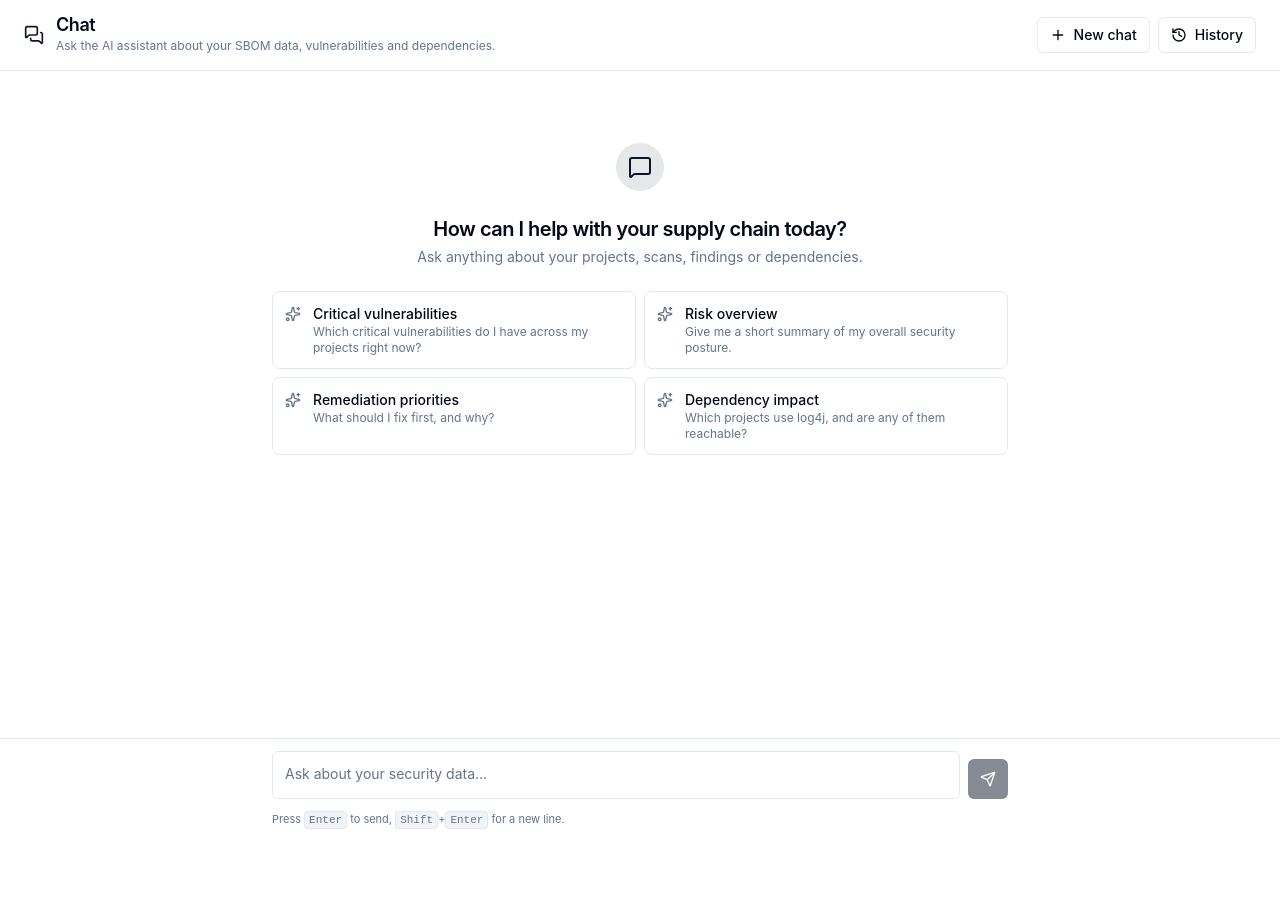
Chat turn after the stream ends › keeps a finished follow-up on screen until the refetched conversation holds it
Click the button "History" at (1207, 35), box [1158,17,1256,53]
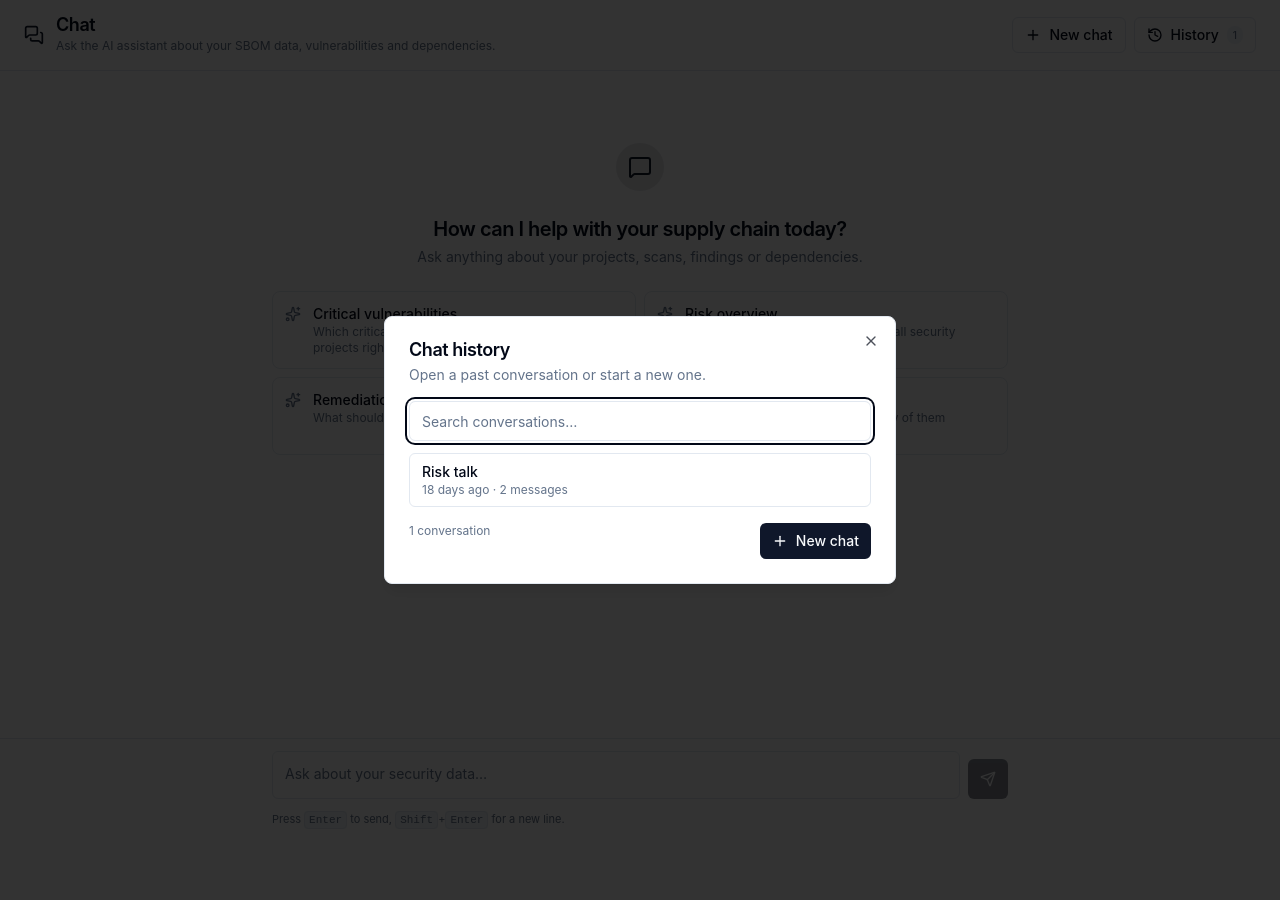
Click the text "Risk talk" at (450, 472), box [422,463,478,480]
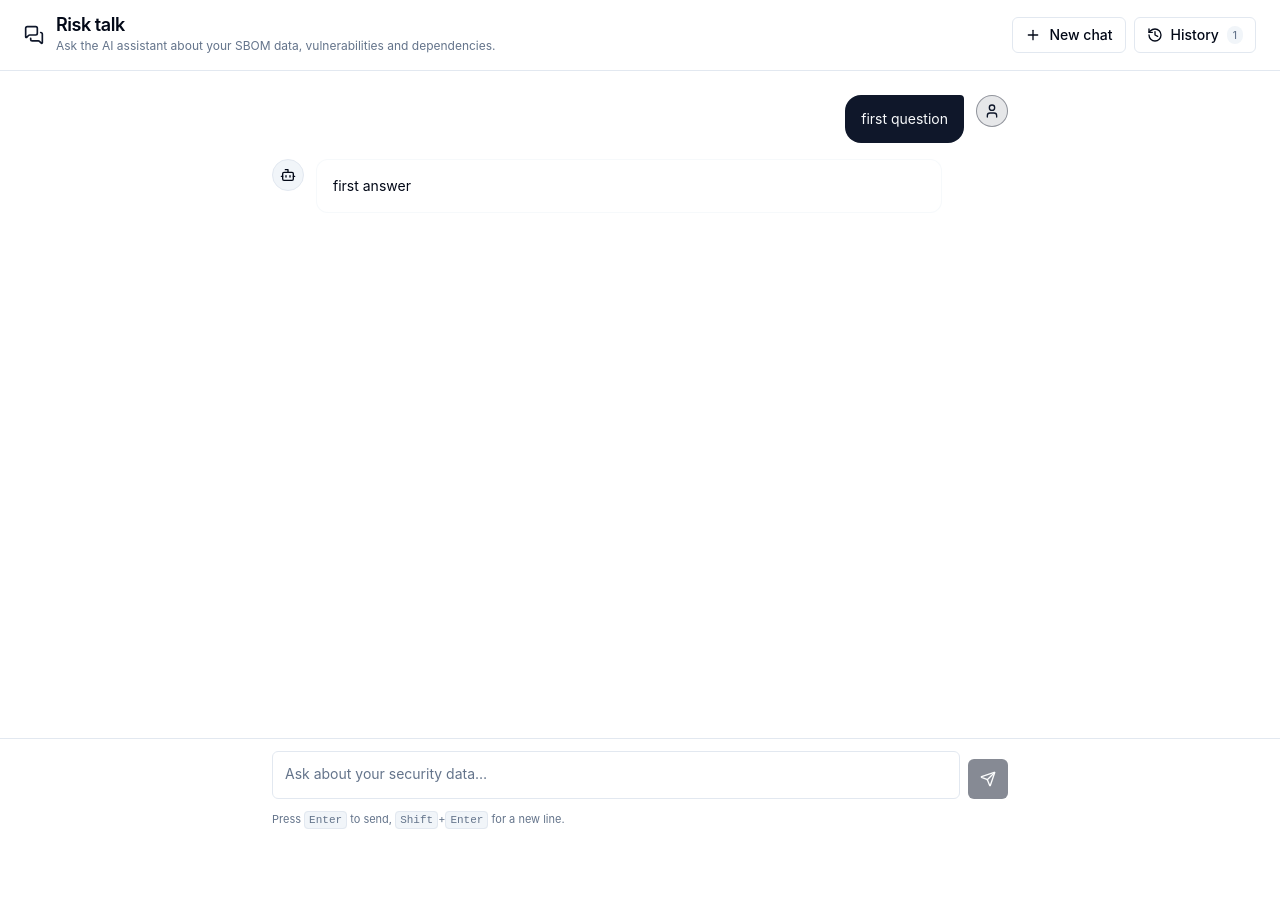
expect the text "first answer" is shown: met, box [333,177,411,194]
Type "second question" into the text box with placeholder "Ask about your security data…" at (616, 774), box [272,750,960,798]
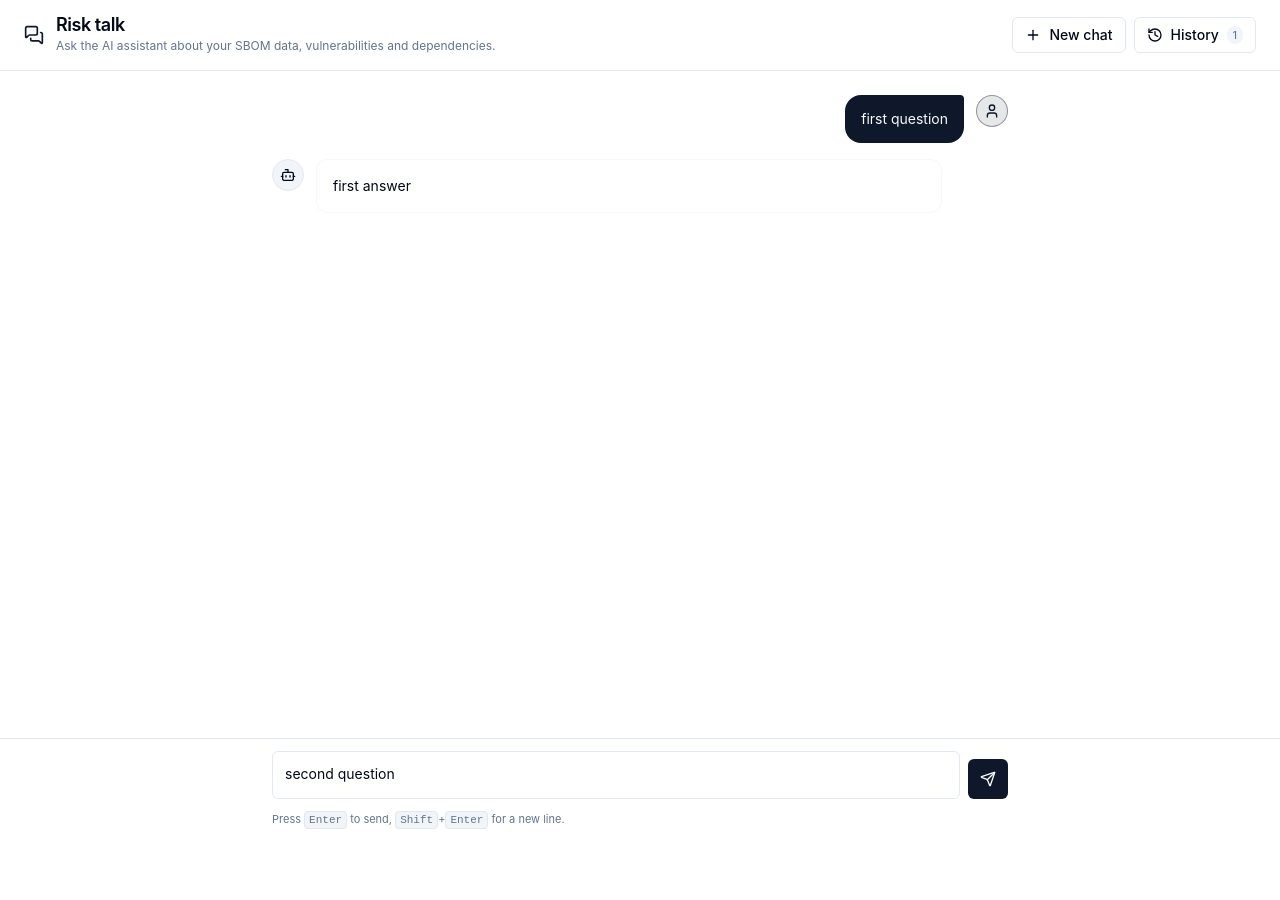
Click the button named "Send message" at (988, 778), box [968,758,1008,798]
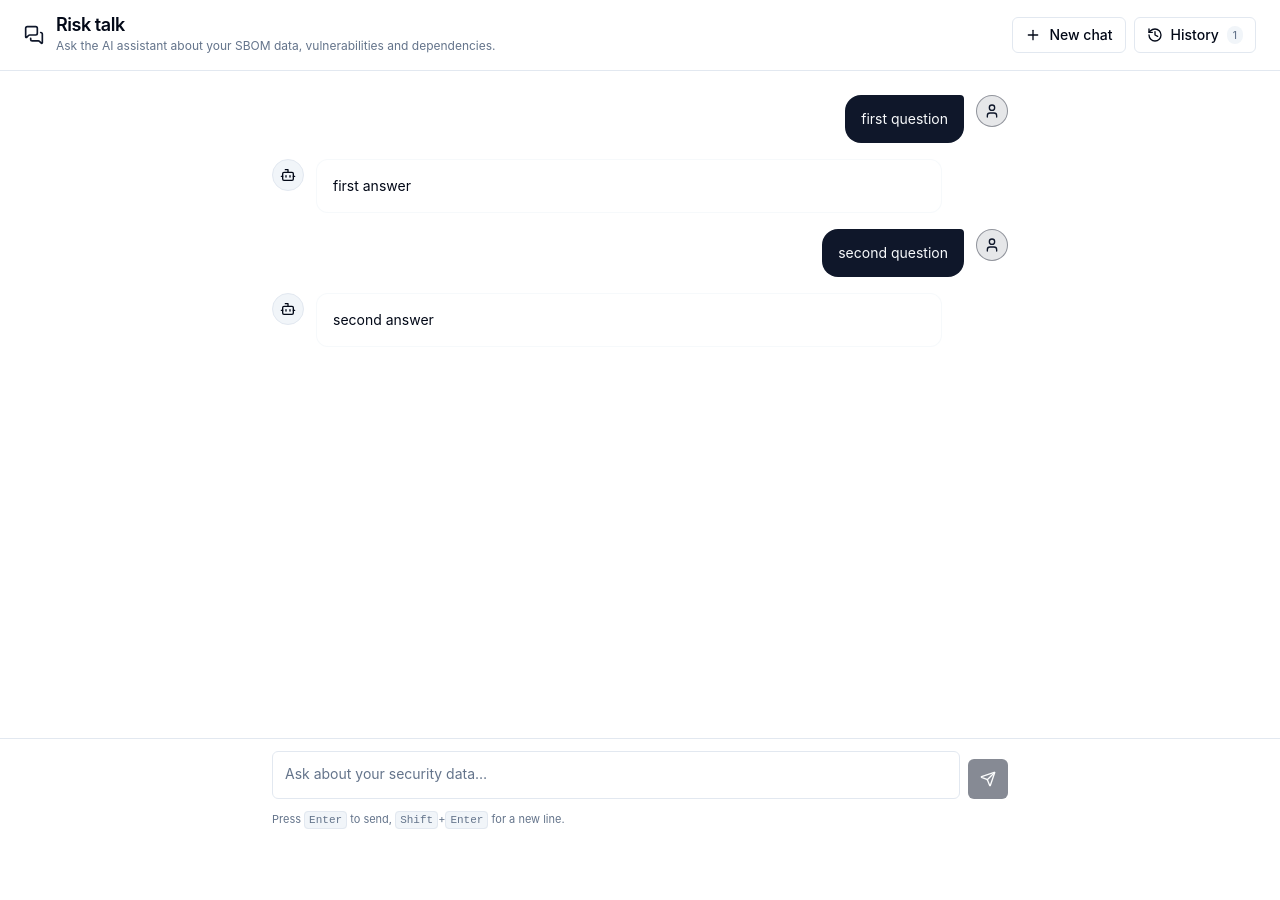
expect the text "second question" is shown once: met, box [838,243,948,263]
expect the text "second answer" is shown once: met, box [333,311,434,328]
